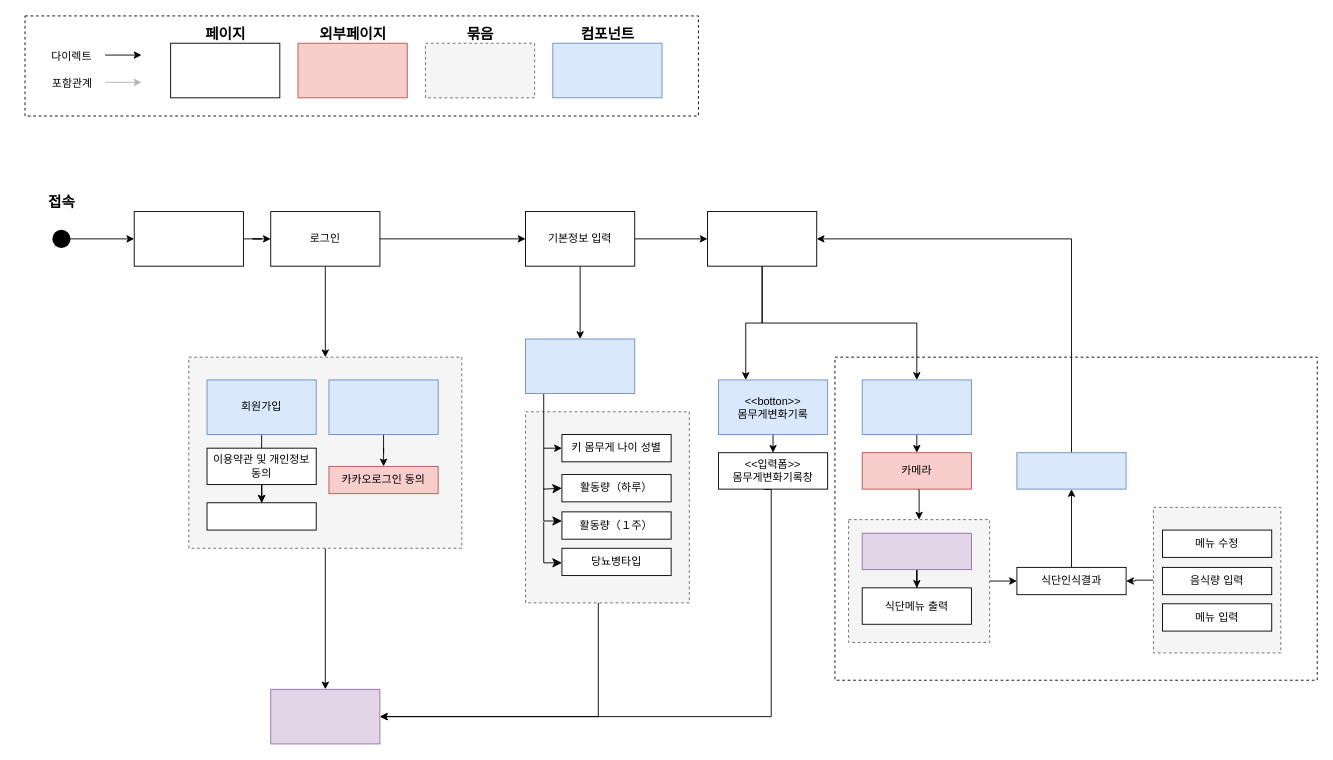
The diagram is 1333 pixels wide and 760 high, and some of its shapes have lost their labels. The shapes that lost their labels are listed below. From the top down, each one's box as (x1, y1, x2, y2) in pixels, then its label:
(133, 211, 243, 266): 시작화면
(707, 211, 817, 266): 식단기록
(525, 338, 635, 394): 기본 정보
(328, 379, 438, 435): 카카오로그인
(861, 379, 971, 435): <<botton>> 식단기록 카메라
(1016, 452, 1126, 489): 인식결과 시각화
(206, 502, 316, 530): 회원가입입력창
(861, 532, 971, 570): 식단인식AI
(270, 688, 380, 744): ＤＢ
